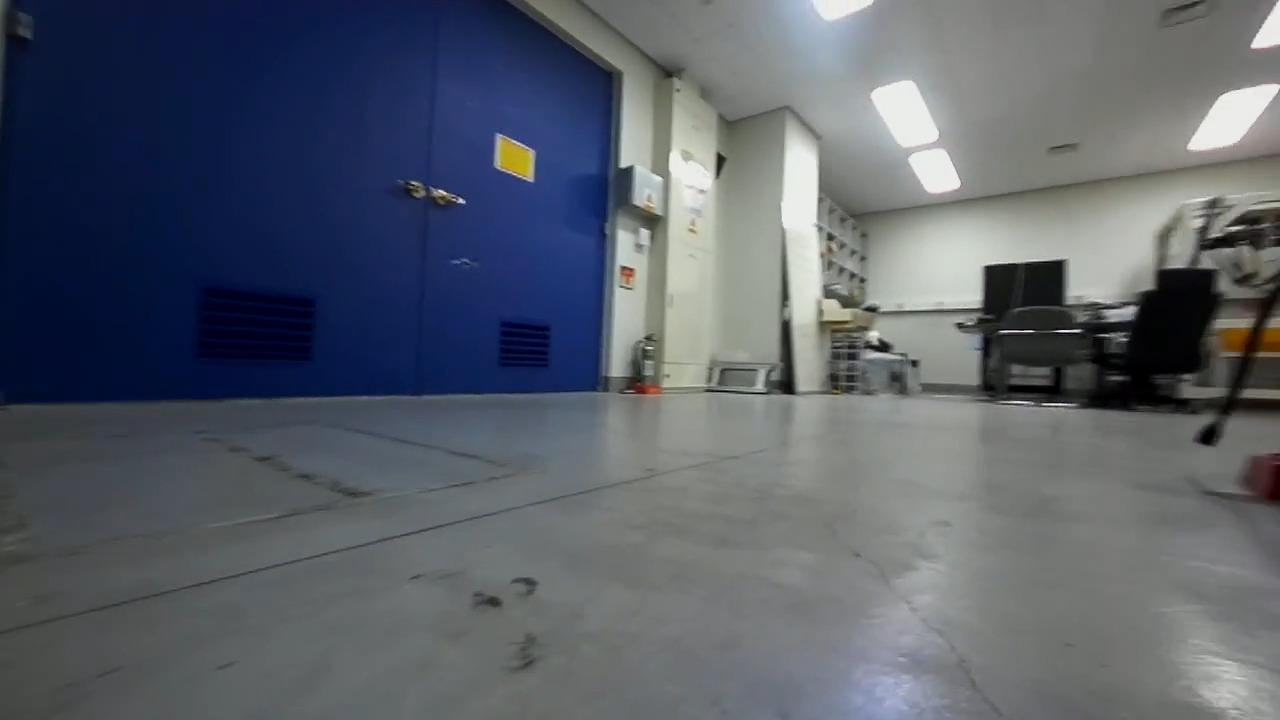crazyflie: (446, 253, 480, 273)
